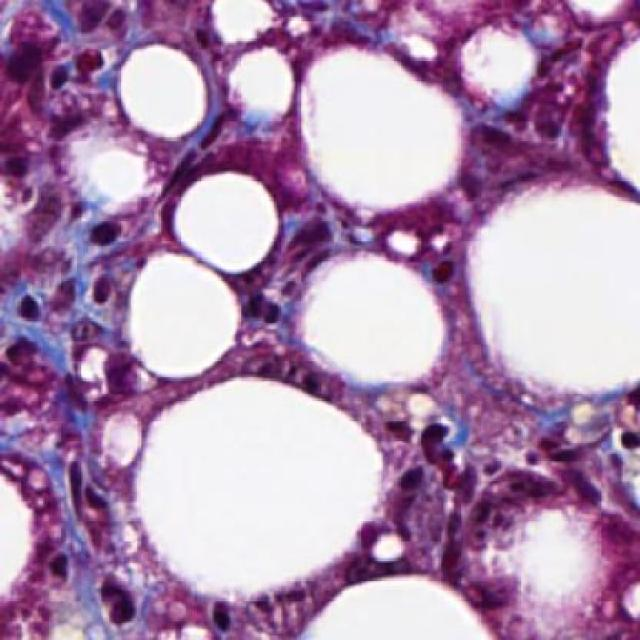inflammation: (11, 263, 119, 336), (380, 409, 471, 485), (89, 564, 145, 632), (80, 211, 134, 254)
